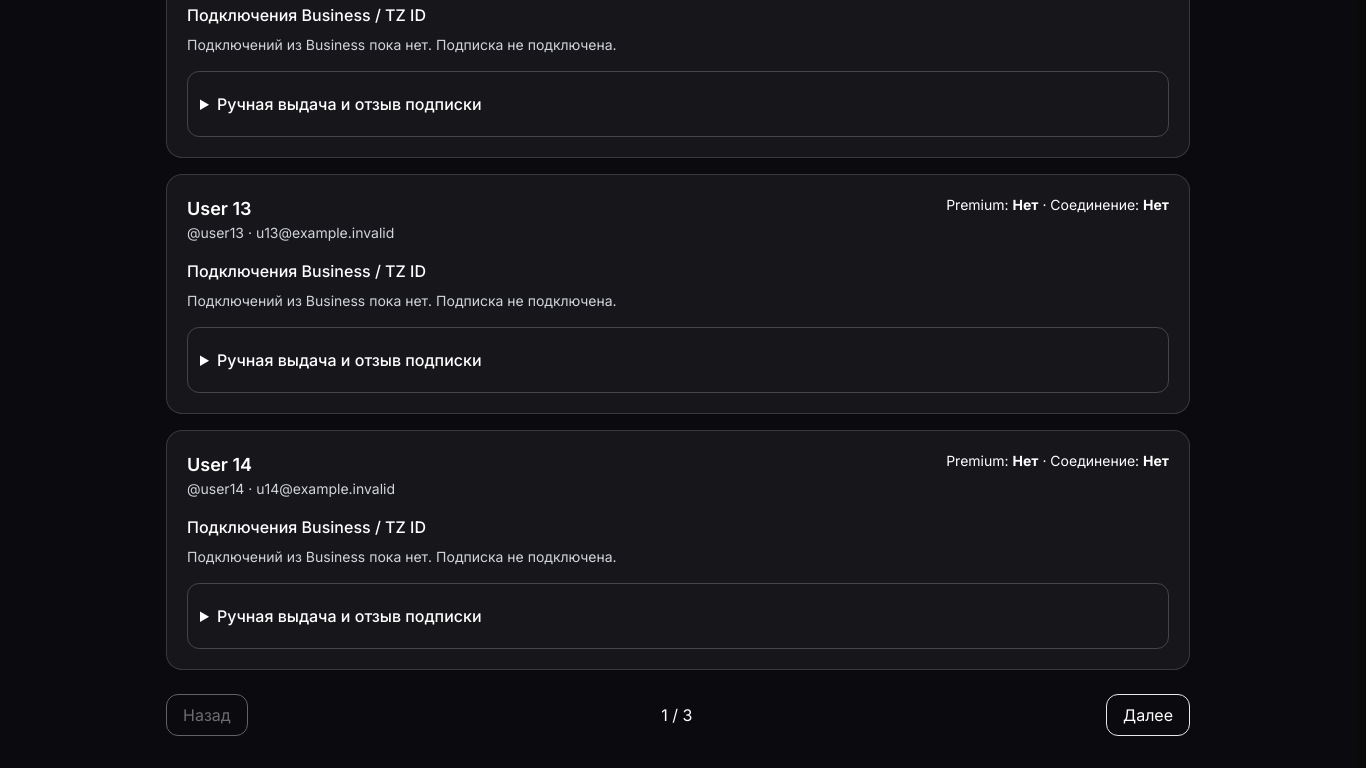
Test: admin lists › shows only 15 users, navigates and resets page on search without losing focus
(page scrolled)
expect the text "User 15" is not shown: met
Click the button "Далее".
click(1148, 715)  # box [1106,694,1190,736]
(page scrolled)
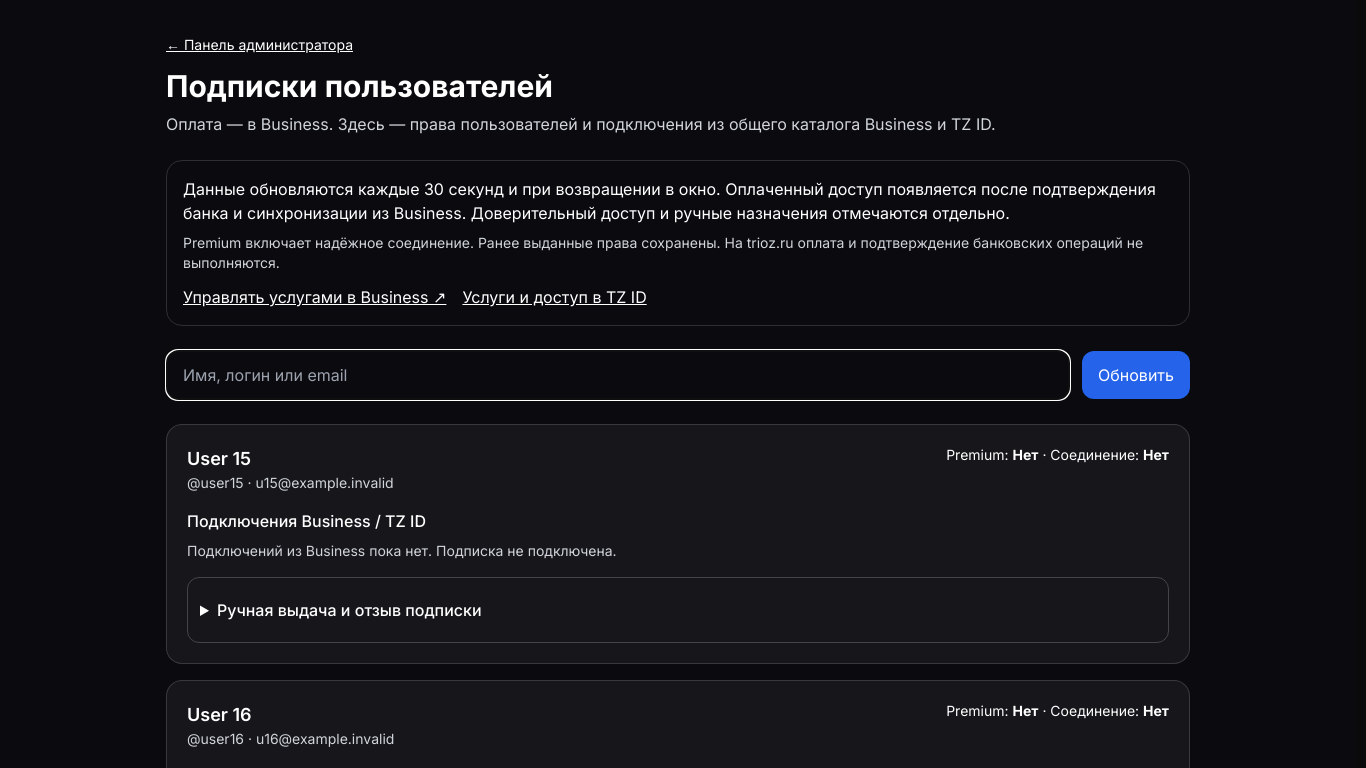
expect the heading "User 15" is shown: met, box [187,448,251,469]
Type "missing" into the field named "Поиск пользователей".
click(618, 375); type("missing")  # box [166,350,1070,400]
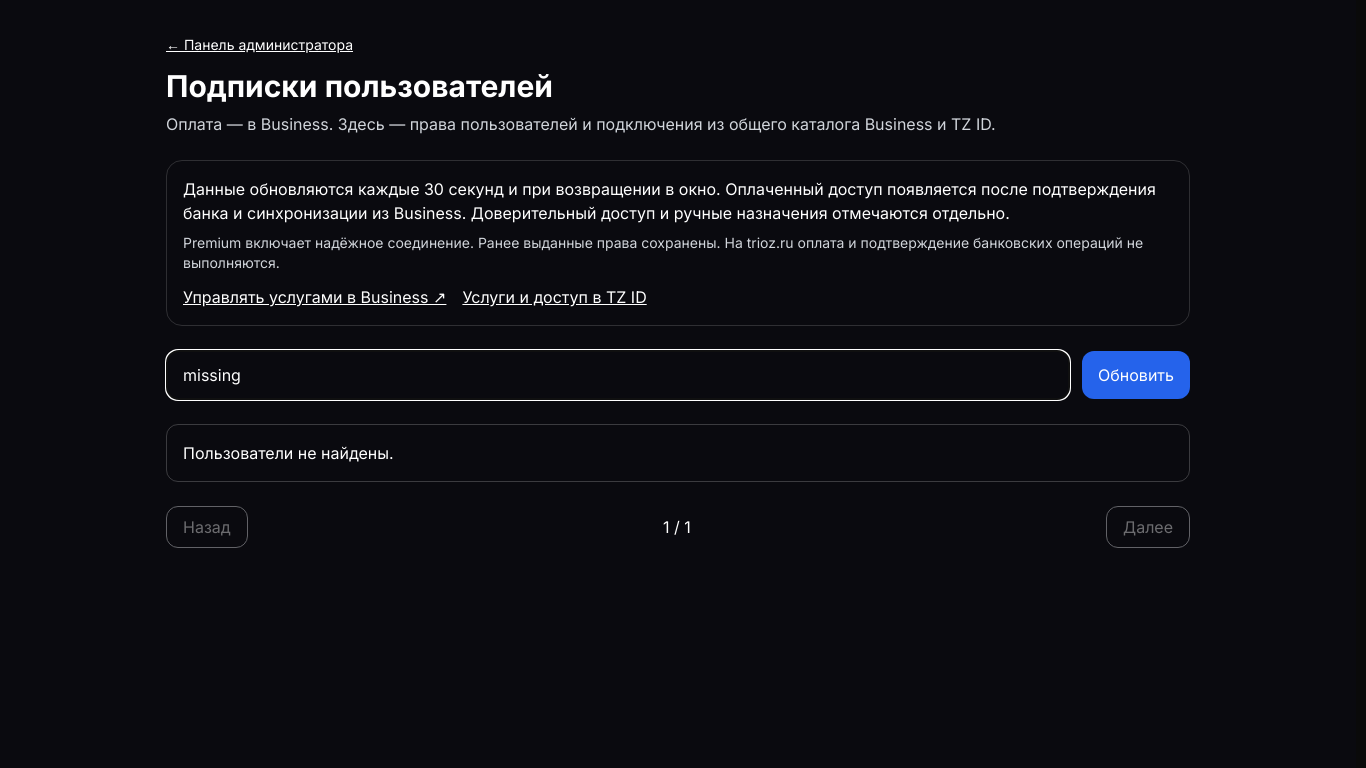
expect the text "Пользователи не найдены." is shown: met, box [166,424,1190,482]
expect the button "Далее" is disabled: met, box [1106,506,1190,548]
